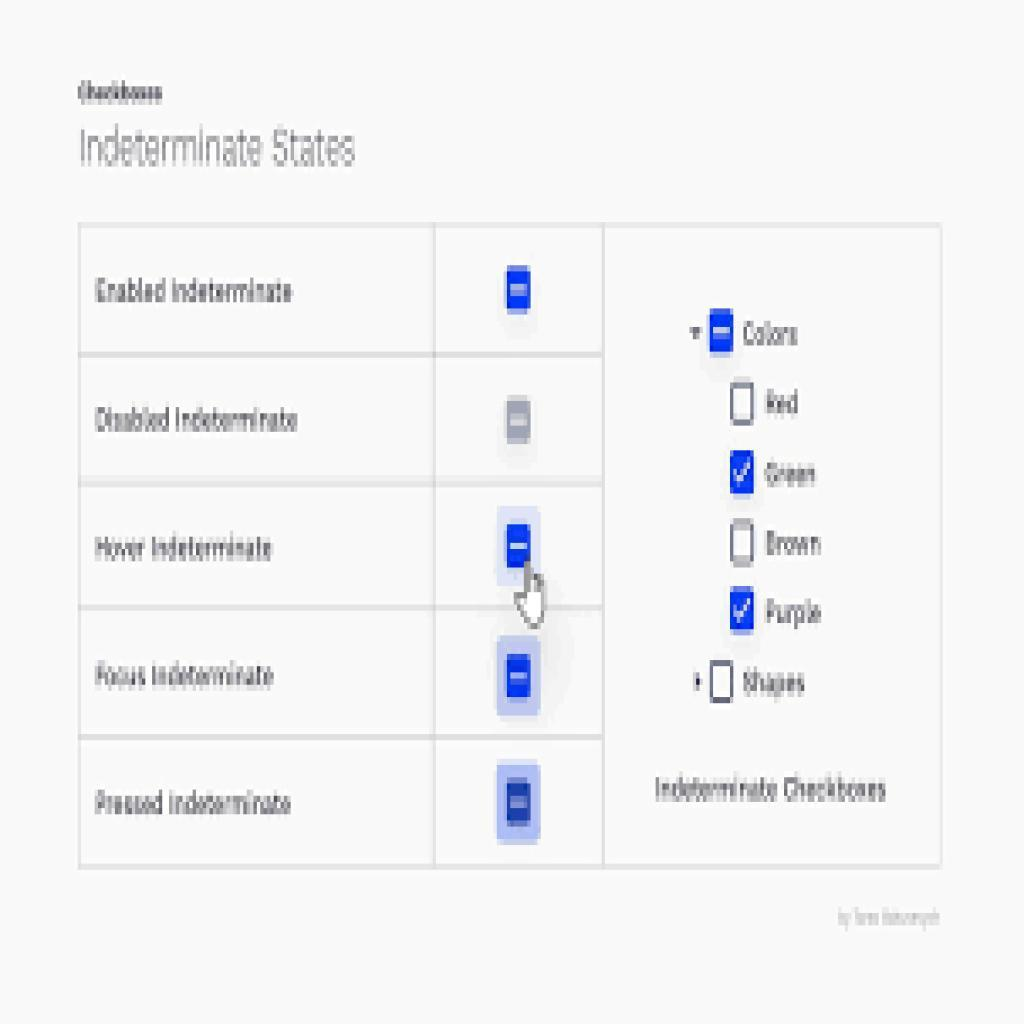checkbox: (730, 588, 756, 633), (730, 522, 756, 562), (732, 381, 755, 425), (731, 451, 753, 490), (713, 662, 731, 702)
table: (84, 224, 945, 870)
